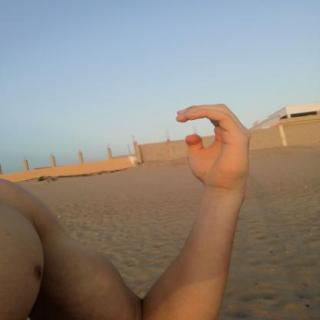JEEM: (158, 94, 262, 194)
